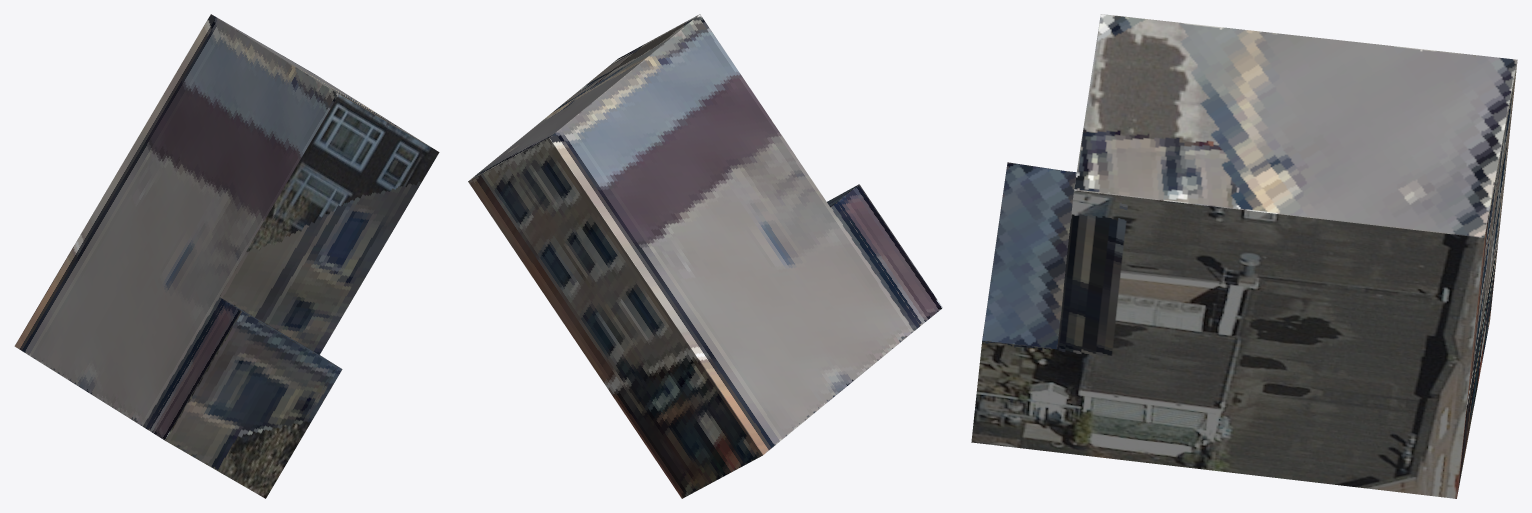
3 renders of one model, left to right at view 1: azimuth 30°, elevation 25°; view 2: azimuth 150°, elevation 25°; view 3: azimuth 270°, elevation 25°, orthographic. The views are drawn at different scales.
Visible parts, largest first — view 1: BAG_0599100000638394 (×3); view 2: BAG_0599100000638394 (×2); view 3: BAG_0599100000638394 (×3).
Part boxes in pixels (bbox=[...]): BAG_0599100000638394 (×3): bbox=[14, 14, 439, 498]; BAG_0599100000638394 (×2): bbox=[468, 14, 942, 498]; BAG_0599100000638394 (×3): bbox=[971, 14, 1517, 498].
Bounding box in the file's own units: 14.38 × 16.44 × 14.56.
Materials: 1 (1 with a texture image).
